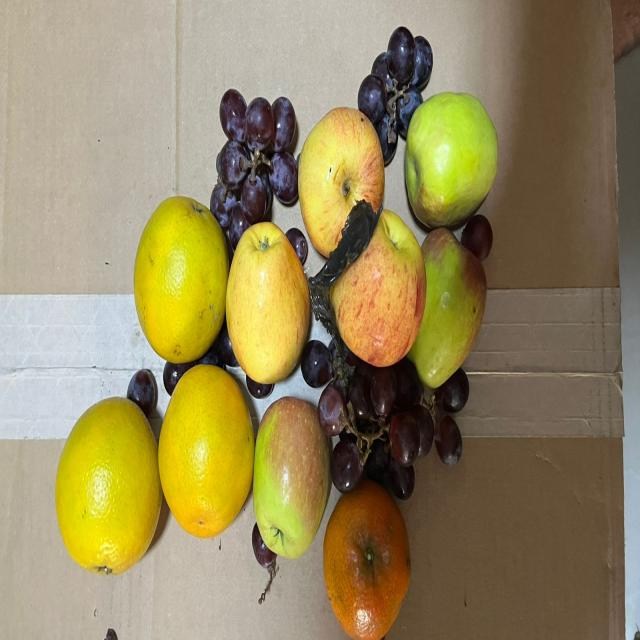bolsa_negra: (307, 197, 375, 313)
